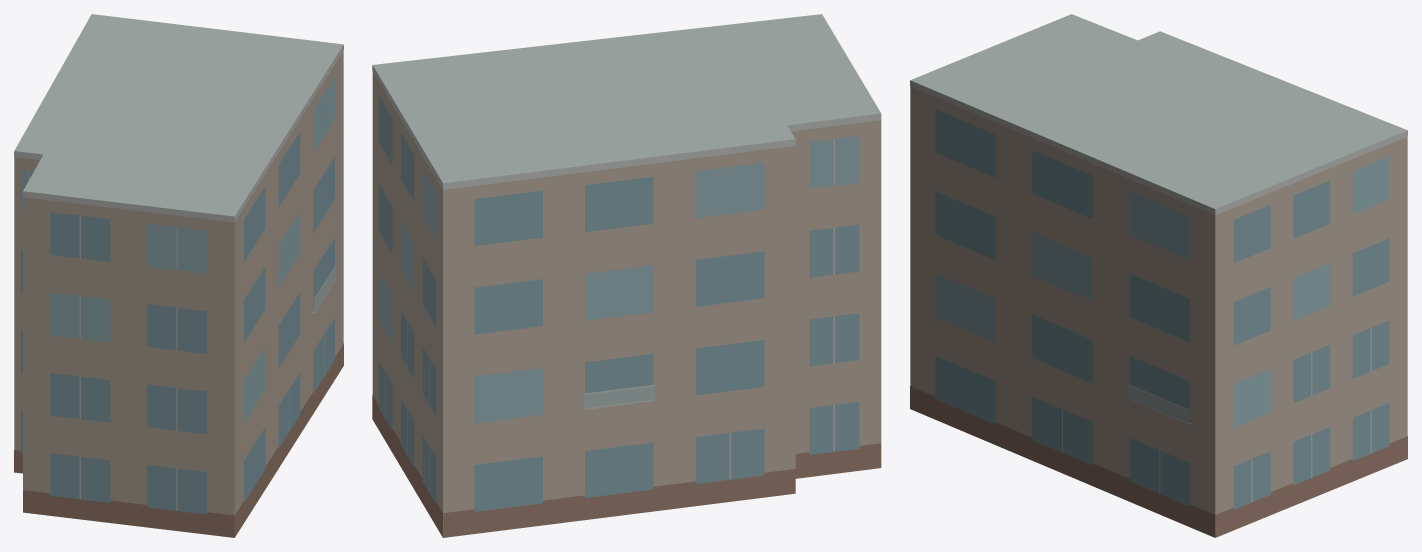
The model's file is survey-upis-32751849.glb.
The picture shows the model from 3 angles, left to right: view 1: azimuth 30°, elevation 25°; view 2: azimuth 150°, elevation 25°; view 3: azimuth 270°, elevation 25°; orthographic projection. The views are drawn at different scales.
Visible parts, largest first — view 1: survey-upis-32751849.tmp; view 2: survey-upis-32751849.tmp; view 3: survey-upis-32751849.tmp.
Part boxes in pixels (x1=…): survey-upis-32751849.tmp: x1=14, y1=14, x2=343, y2=537; survey-upis-32751849.tmp: x1=372, y1=14, x2=881, y2=537; survey-upis-32751849.tmp: x1=910, y1=14, x2=1407, y2=537.
Bounding box in the file's own units: 16.82 × 13.2 × 18.12.
